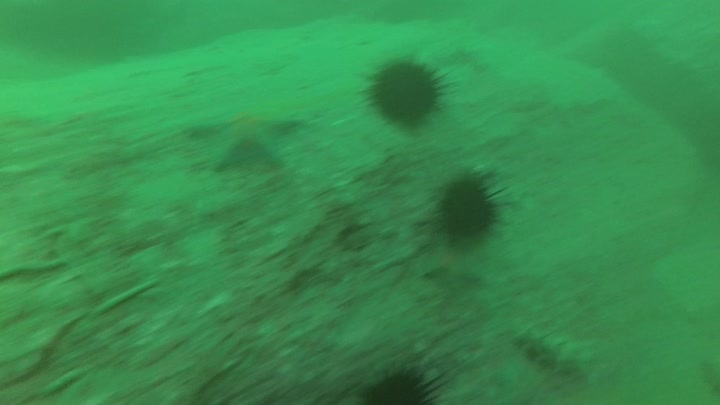echinus: (356, 52, 462, 131), (430, 174, 517, 244), (357, 364, 456, 405)
holothurian: (512, 320, 603, 384)
starfish: (209, 99, 307, 175)
